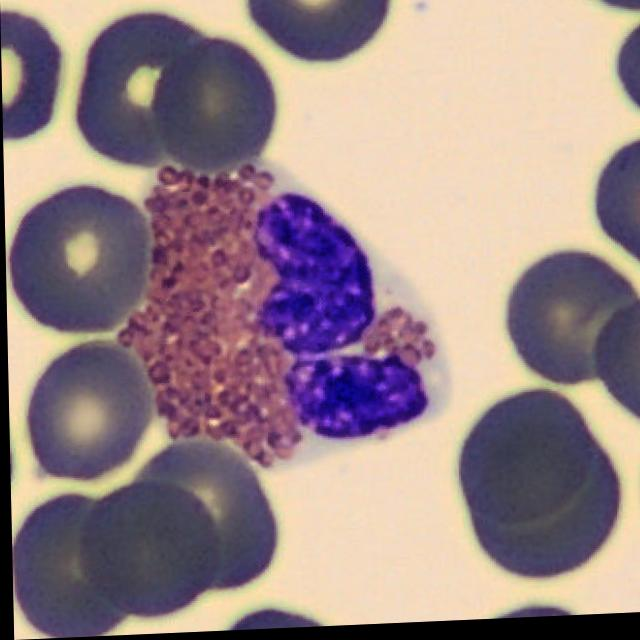Eosinofilo: (117, 164, 437, 470)
